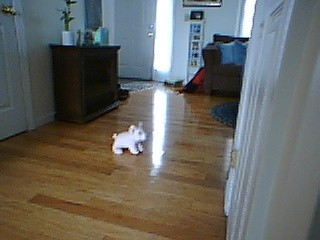piggy: (110, 121, 149, 157)
